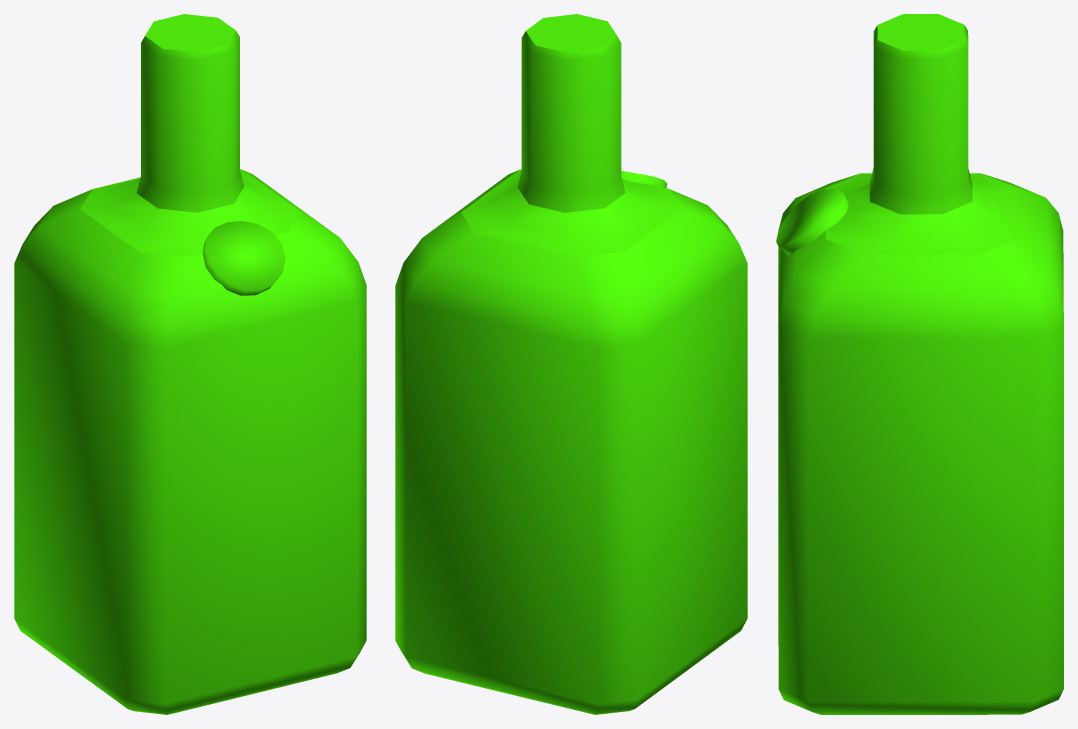
The model's file is 20_cointreau.gltf.
3 views of the same model, side by side, from view 1: azimuth 30°, elevation 25°; view 2: azimuth 150°, elevation 25°; view 3: azimuth 270°, elevation 25° (orthographic). The views are drawn at different scales.
Parts seen in each view (by area): view 1: Cointreau_Atlas_0; view 2: Cointreau_Atlas_0; view 3: Cointreau_Atlas_0.
Part boxes in pixels (left/top/right/bottom): Cointreau_Atlas_0: left=14, top=14, right=366, bottom=714; Cointreau_Atlas_0: left=395, top=14, right=747, bottom=714; Cointreau_Atlas_0: left=776, top=14, right=1063, bottom=714.
Bounding box in the file's own units: 8.27 × 20.11 × 8.33.
Materials: 1 (1 with a texture image).
